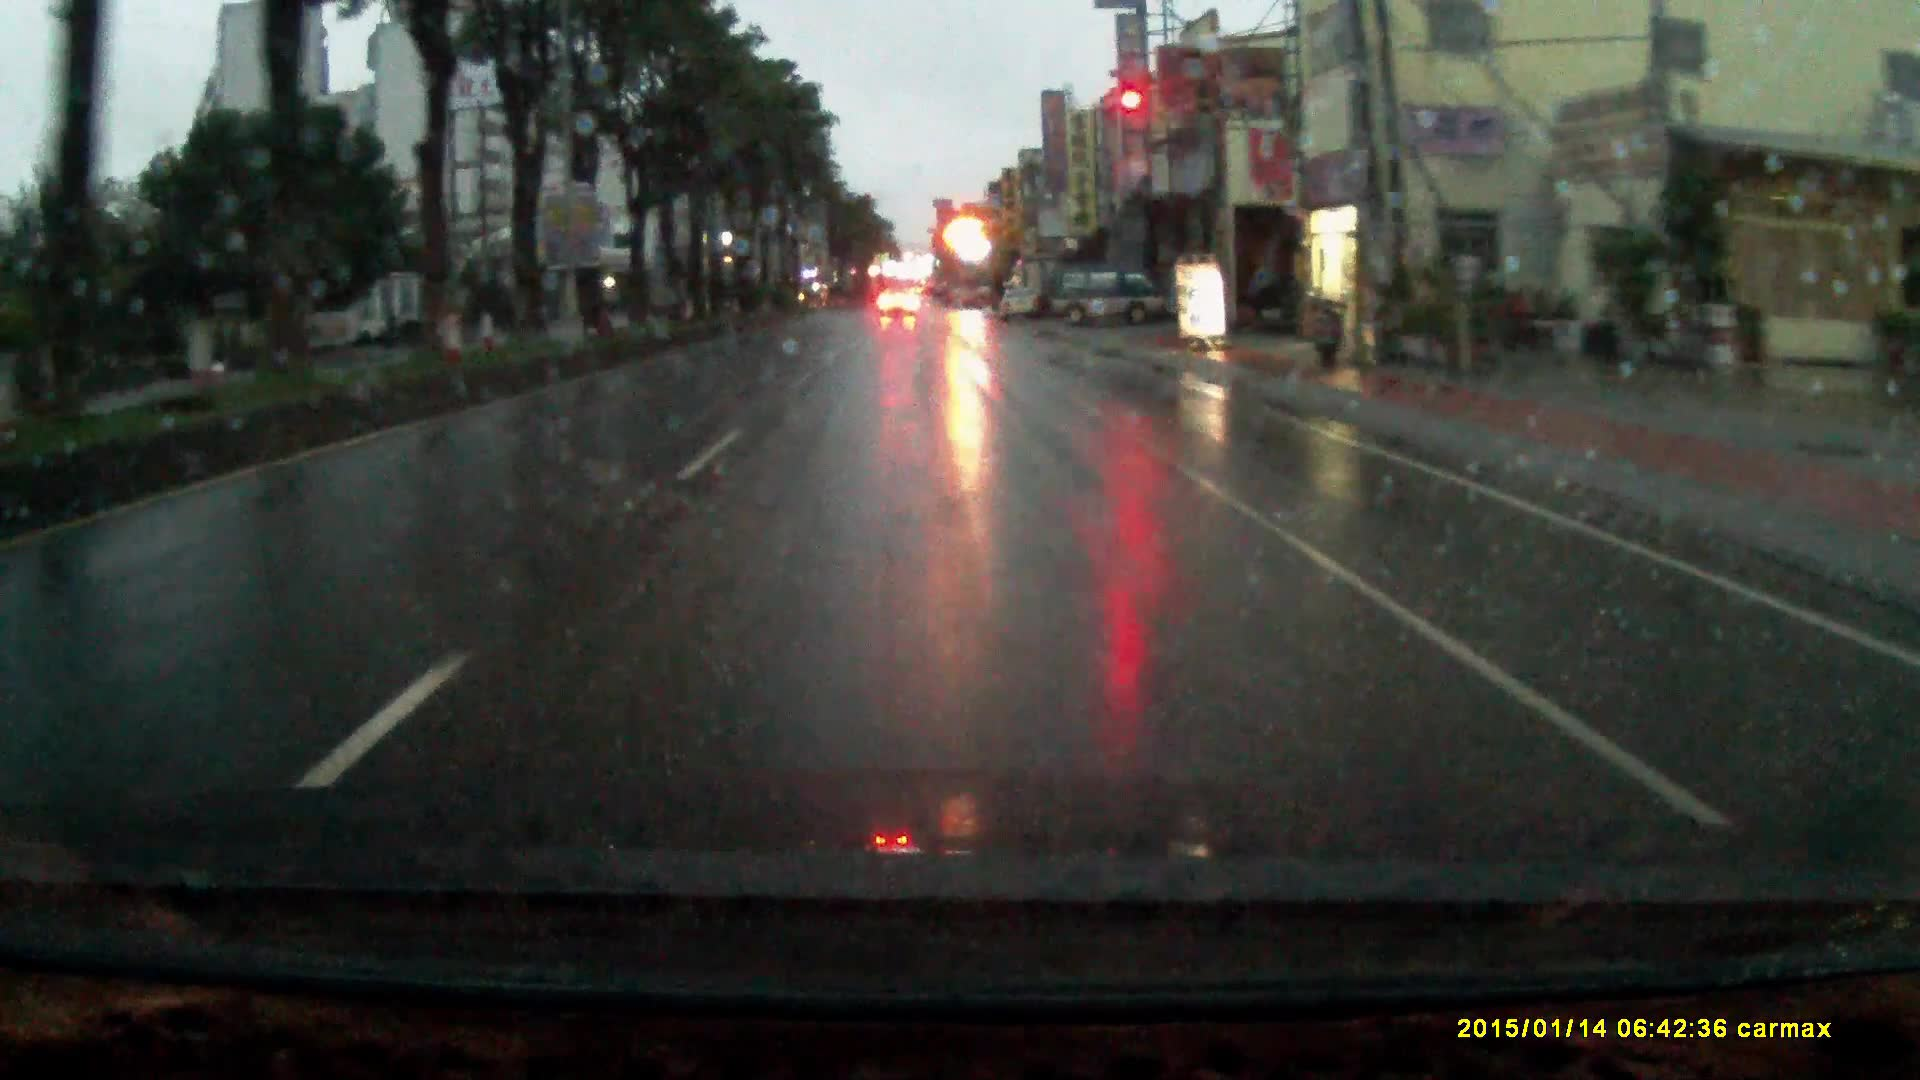vehicle: (1051, 272, 1171, 336), (998, 290, 1042, 324), (877, 287, 920, 320)
